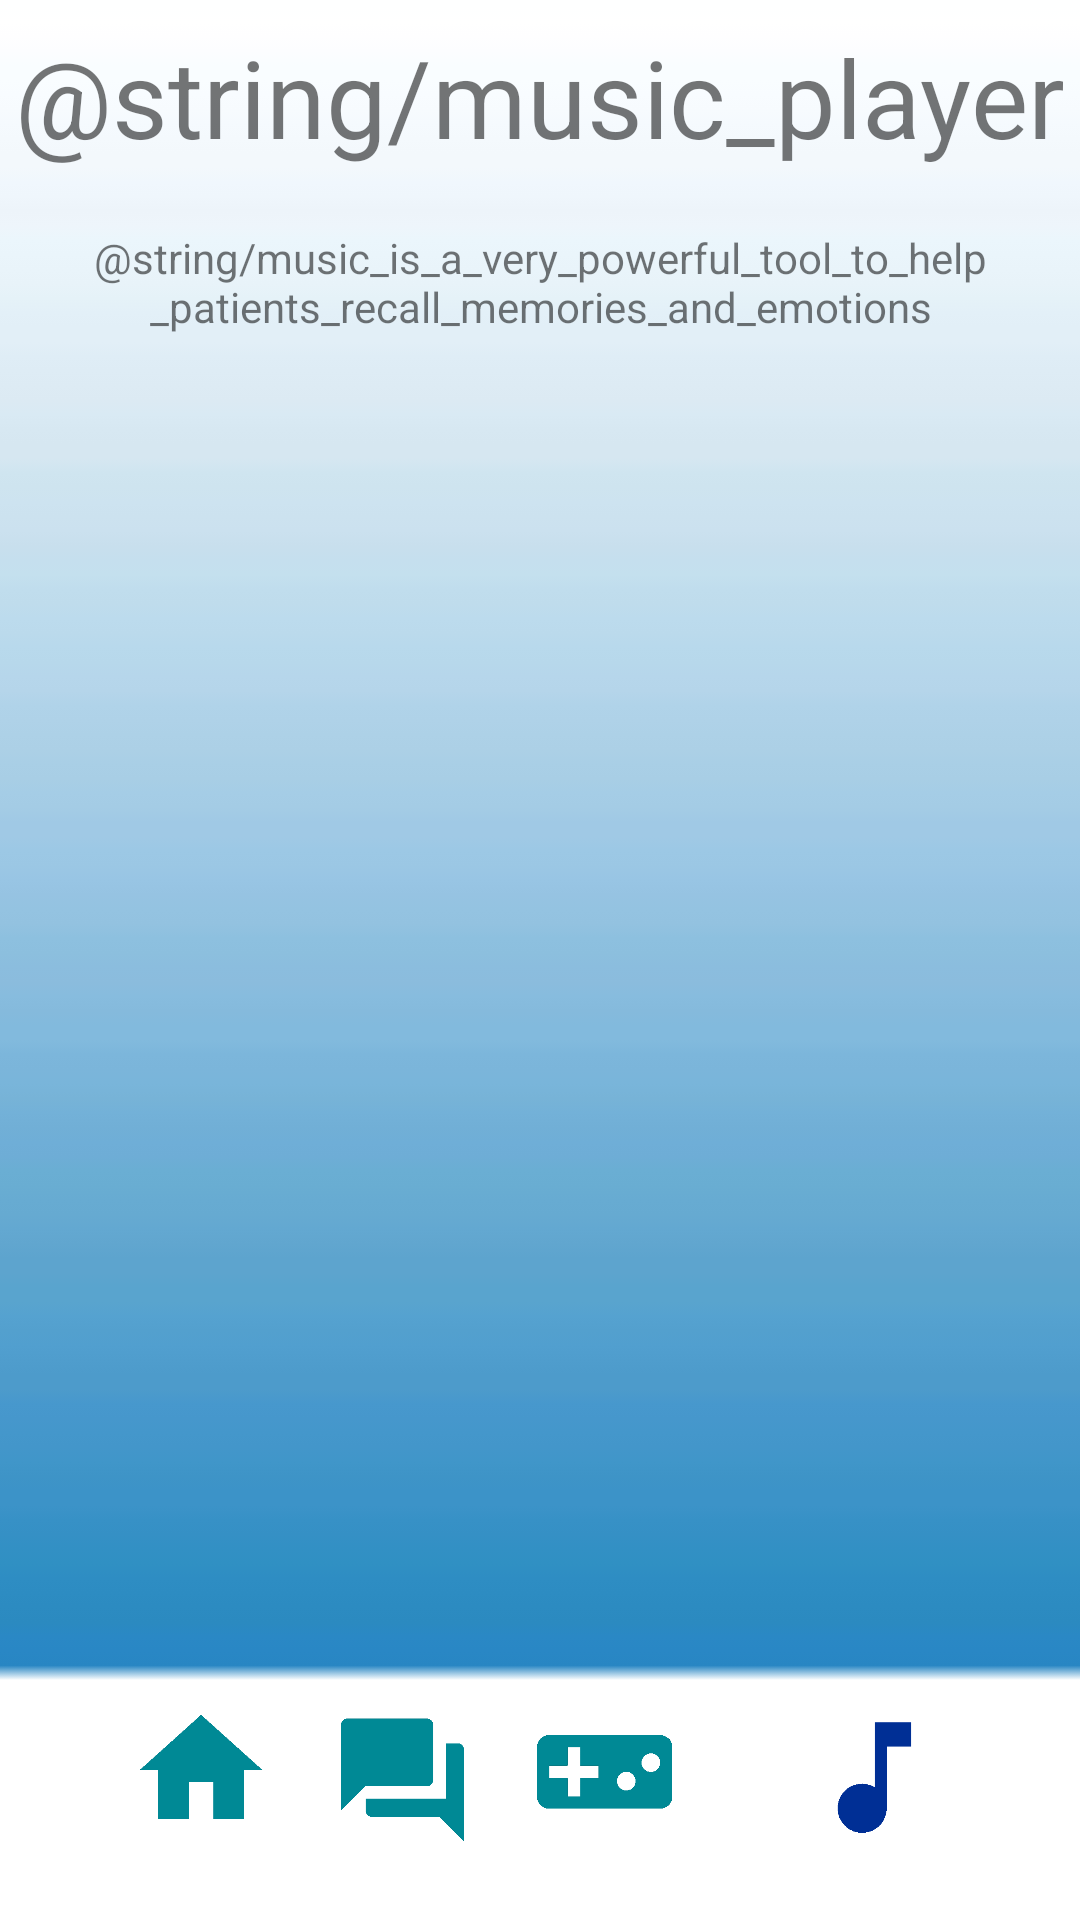

Where to tap for icons on this 1080x1920 app screen, as point (x, y):
game: point (604, 1772)
music now: point (874, 1777)
question: point (402, 1779)
